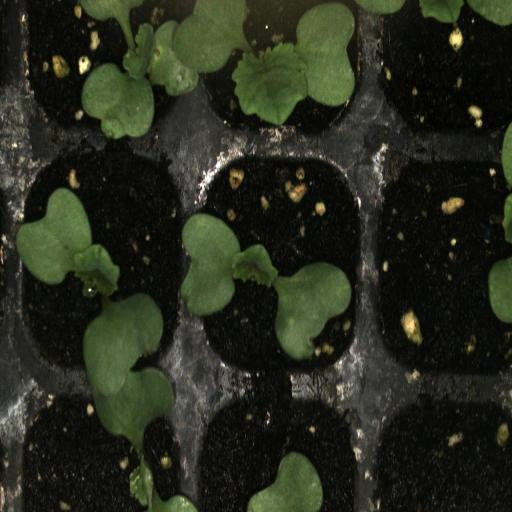Folha: (83, 293, 176, 448), (14, 187, 120, 296), (129, 462, 199, 512)
Germinacao: (11, 142, 194, 384), (192, 140, 371, 386), (195, 0, 371, 143)
